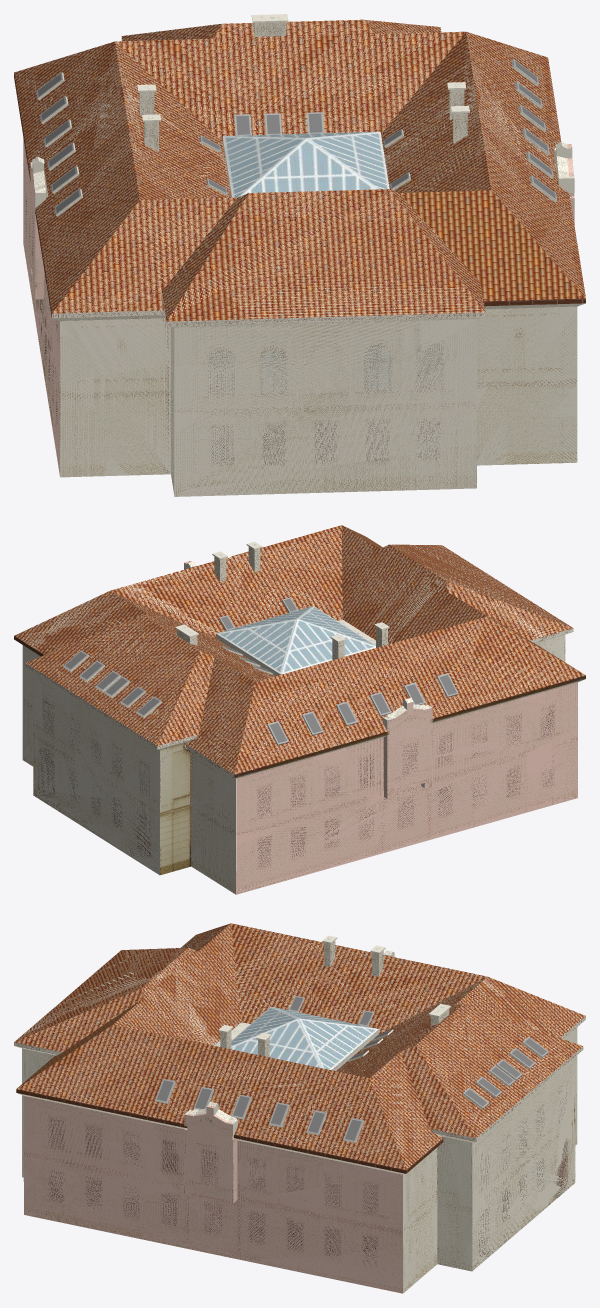
File: cirkevne_gymnazium.glb
3 renders of one model, top to bottom at view 1: azimuth 30°, elevation 25°; view 2: azimuth 150°, elevation 25°; view 3: azimuth 270°, elevation 25°, orthographic. The views are drawn at different scales.
Visible parts, largest first — view 1: Roofing_Tile_Spanish, Color_D05, priečelie-vzadu1, priečelie_vpredu_vpravo_2_15, priečelie_vpredu_vpravo_2_14, Color_B04, strešné_okno, pytamida_0, material_4, pytamida_1, pytamida, bočná_hlavná_stena1 (+2 smaller); view 2: Roofing_Tile_Spanish, Color_D05, Color_B04, bočná_hlavná_stena1, priečelie-vpredu1, bočná-malá-stenaOST_12, strešné_okno, pytamida_1, pytamida_9, priečelie_vpredu_vpravo_2_16, material_4, pytamida_0 (+1 smaller); view 3: Roofing_Tile_Spanish, Color_D05, Color_B04, bočná_hlavná_stena1, priečelie-vpredu1, strešné_okno, pytamida_9, pytamida, žlab, bočná-malá-stenaOST_12, priečelie_vpredu_vpravo_2, bočná_hlavná_stena1_3 (+3 smaller).
Part boxes in pixels (x1,y1,x2,y2): Roofing_Tile_Spanish: (14, 19, 585, 321); Color_D05: (16, 14, 585, 496); priečelie-vzadu1: (174, 320, 476, 496); priečelie_vpredu_vpravo_2_15: (60, 318, 170, 476); priečelie_vpredu_vpravo_2_14: (477, 307, 577, 464); Color_B04: (23, 138, 574, 474); strešné_okno: (36, 59, 557, 214); pytamida_0: (241, 138, 377, 195); material_4: (223, 132, 389, 191); pytamida_1: (222, 136, 306, 197); pytamida: (307, 131, 389, 189); bočná_hlavná_stena1: (14, 74, 574, 467); Roofing_Tile_Spanish: (14, 525, 585, 774); Color_D05: (17, 526, 584, 894); Color_B04: (184, 561, 577, 894); bočná_hlavná_stena1: (234, 675, 585, 893); priečelie-vpredu1: (33, 674, 159, 870); bočná-malá-stenaOST_12: (160, 742, 191, 875); strešné_okno: (63, 597, 458, 744); pytamida_1: (281, 619, 375, 674); pytamida_9: (216, 619, 296, 674); priečelie_vpredu_vpravo_2_16: (191, 752, 235, 893); material_4: (224, 607, 373, 673); pytamida_0: (297, 606, 375, 645); Roofing_Tile_Spanish: (14, 923, 585, 1169); Color_D05: (14, 925, 585, 1293); Color_B04: (23, 1096, 402, 1293); bočná_hlavná_stena1: (23, 1096, 402, 1293); priečelie-vpredu1: (472, 1059, 575, 1269); strešné_okno: (155, 996, 548, 1141); pytamida_9: (299, 1018, 378, 1069); pytamida: (231, 1018, 322, 1068); žlab: (16, 1017, 585, 1173); bočná-malá-stenaOST_12: (437, 1137, 472, 1270); priečelie_vpredu_vpravo_2: (403, 1150, 437, 1291); bočná_hlavná_stena1_3: (184, 1107, 232, 1203).
Bounding box in the file's own units: 33.74 × 13.66 × 34.63.
Materials: 38 (30 with a texture image).
